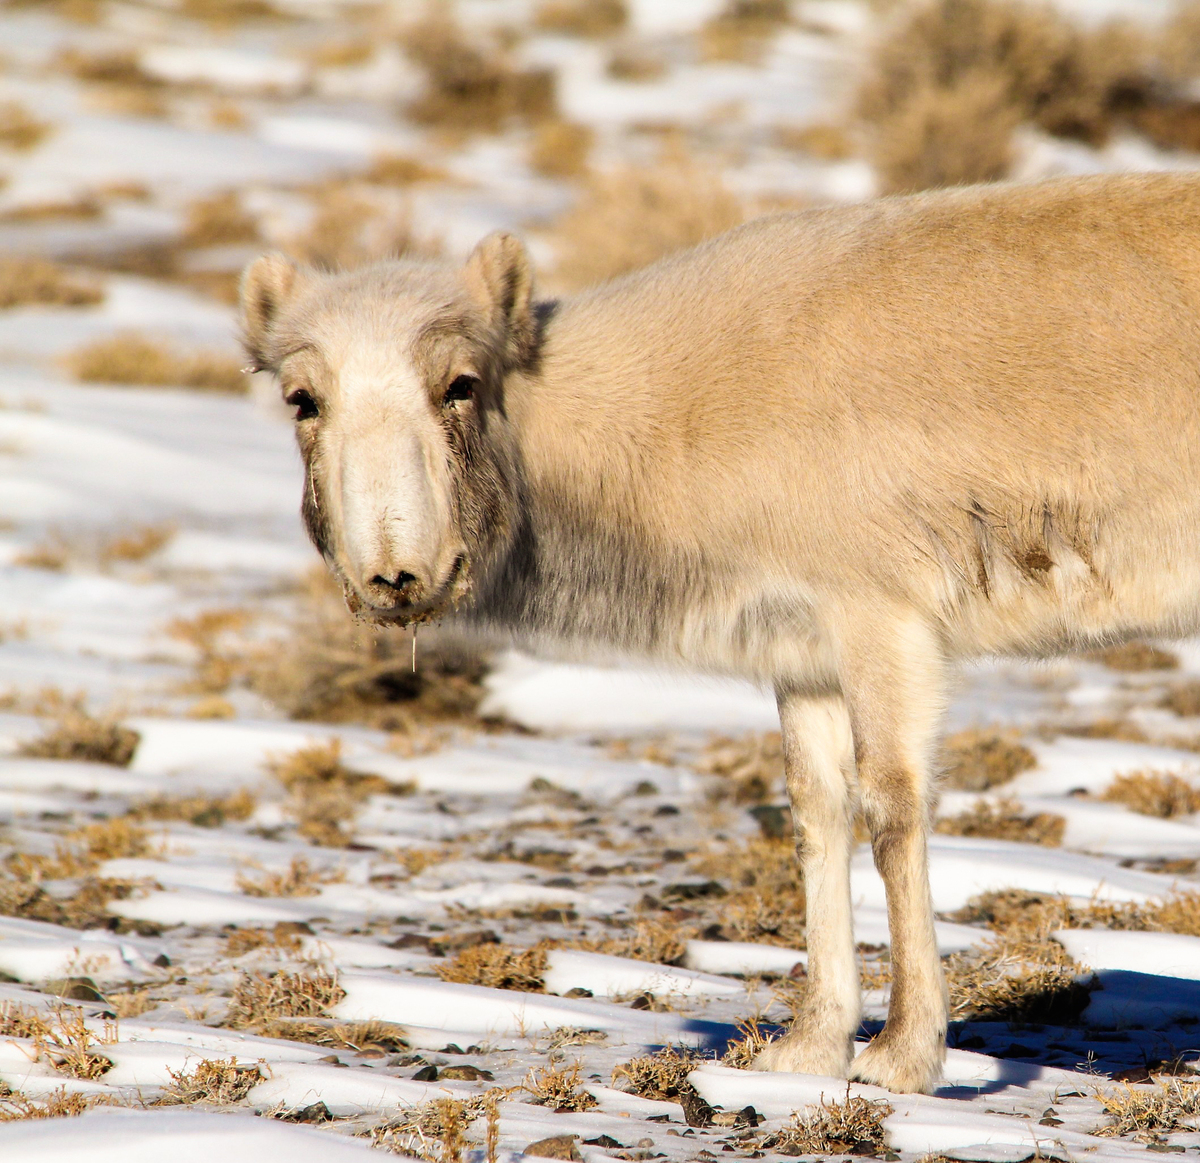saiga: (235, 173, 1200, 1101)
